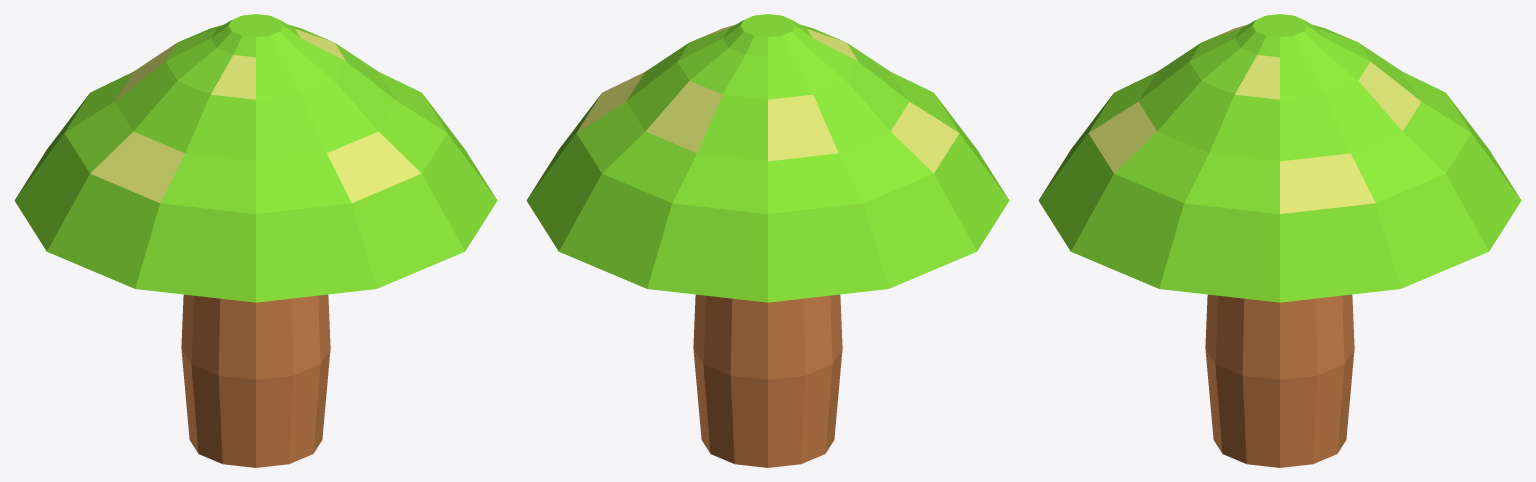
Rendered from cogumelo2.fbx.
3 renders of one model, left to right at view 1: azimuth 30°, elevation 25°; view 2: azimuth 150°, elevation 25°; view 3: azimuth 270°, elevation 25°, orthographic.
Parts seen in each view (by area): view 1: Cylinder.001; view 2: Cylinder.001; view 3: Cylinder.001.
Boxes of the visible parts, x1,y1,x2,y2 form: Cylinder.001: (14,14,497,467); Cylinder.001: (526,14,1009,467); Cylinder.001: (1038,14,1521,467).
Bounding box in the file's own units: 166 × 157 × 166.
